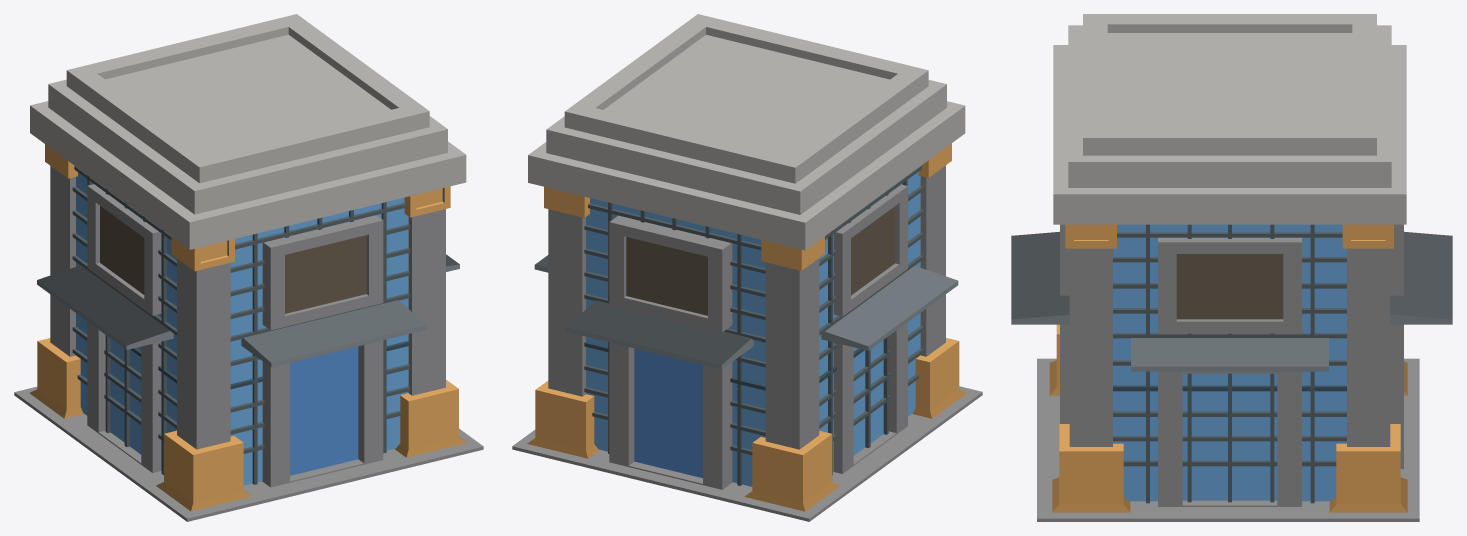
File: putong_xiaoxing04.fbx
3 views of the same model, side by side, from view 1: azimuth 30°, elevation 25°; view 2: azimuth 150°, elevation 25°; view 3: azimuth 270°, elevation 25° (orthographic). The views are drawn at different scales.
Visible parts, largest first — view 1: putong_xiaoxing04; view 2: putong_xiaoxing04; view 3: putong_xiaoxing04.
Part boxes in pixels (x1,y1,x2,y2): putong_xiaoxing04: (14,14,483,521); putong_xiaoxing04: (512,14,982,521); putong_xiaoxing04: (1011,14,1452,521).
Size of the model in its own units: 741 by 769 by 703.
